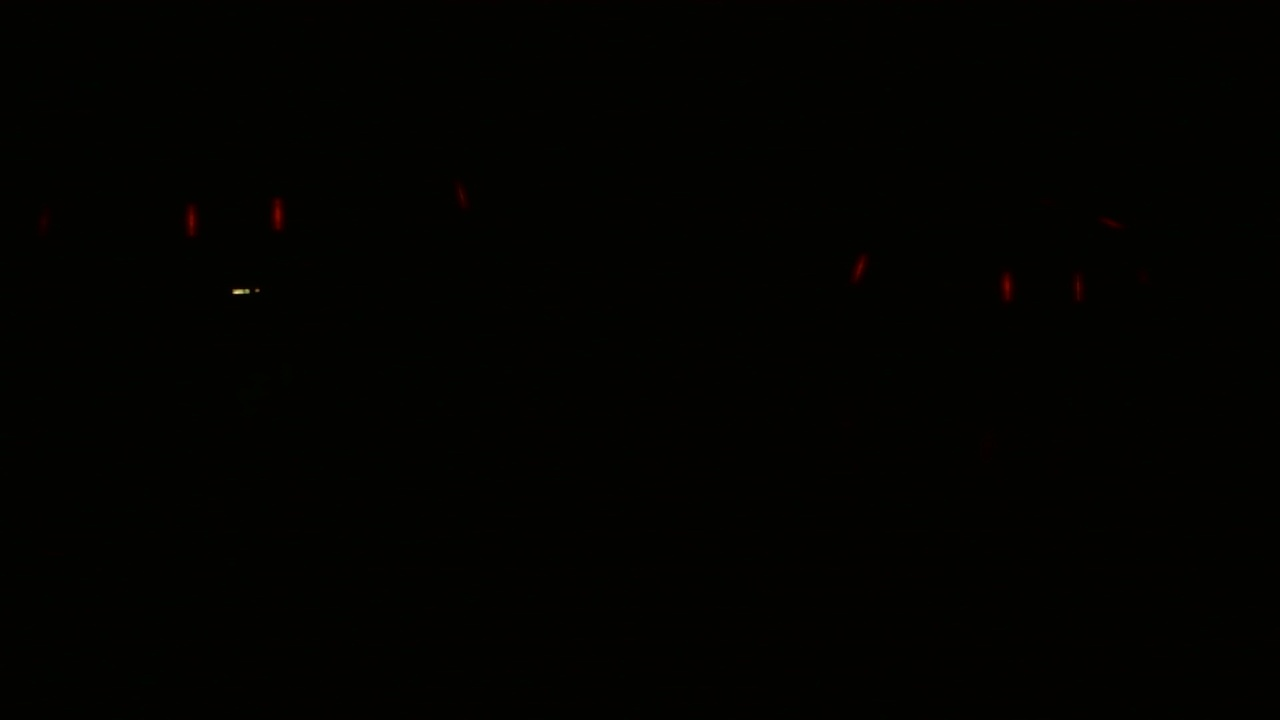pair1: (184, 200, 284, 241), (999, 271, 1088, 308)
